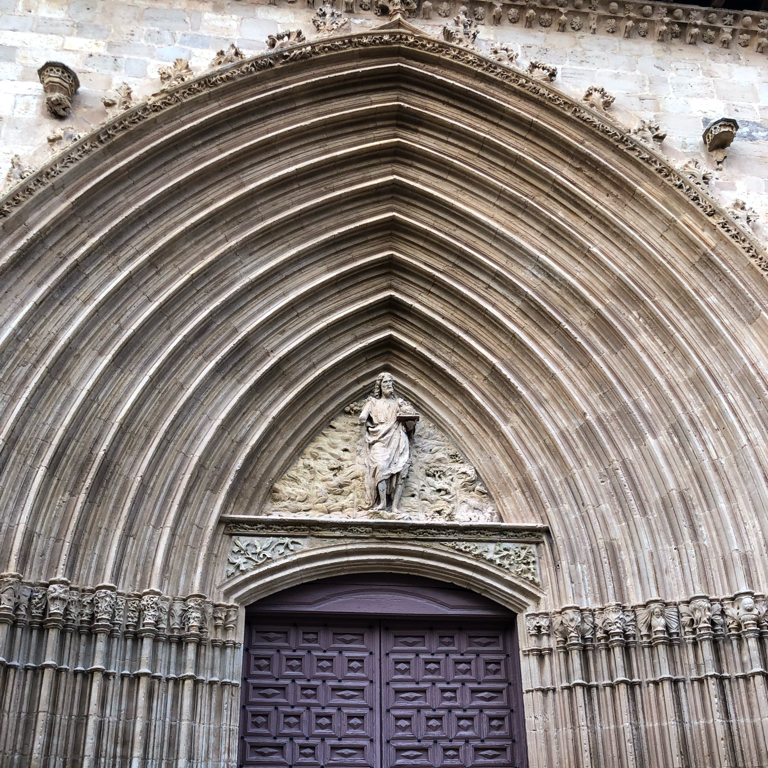arco-apuntado: (38, 161, 731, 559)
